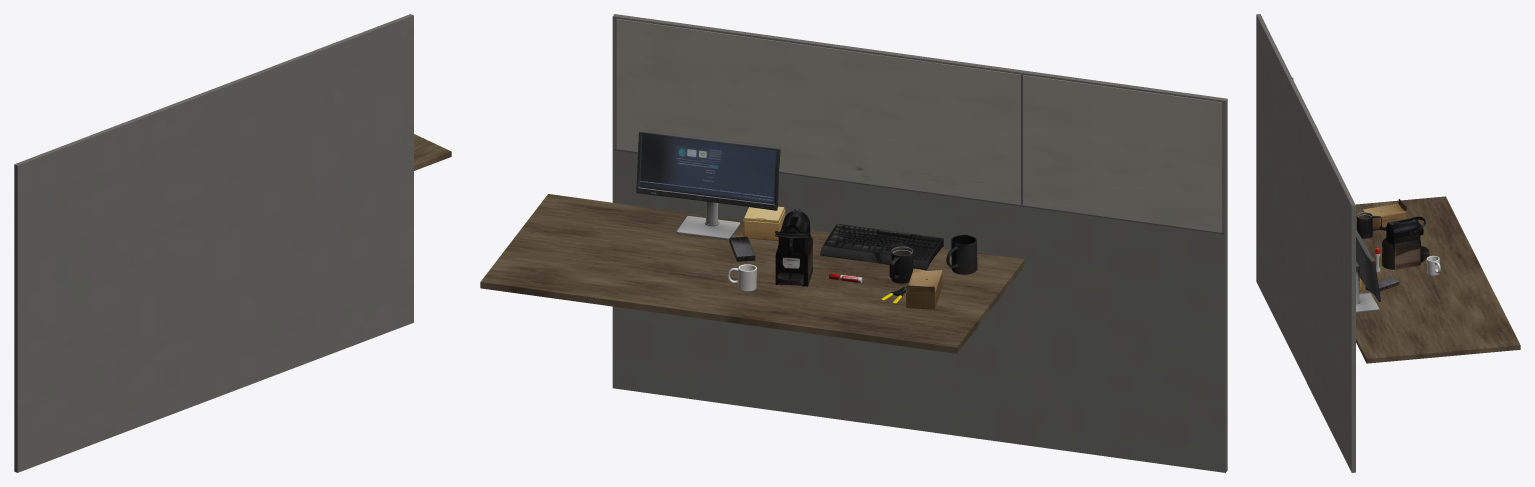
File: ours.glb
3 views of the same model, side by side, from view 1: azimuth 30°, elevation 25°; view 2: azimuth 150°, elevation 25°; view 3: azimuth 270°, elevation 25° (orthographic). The views are drawn at different scales.
Visible parts, largest first — view 1: wall_0, desk_0; view 2: wall_0, wall_0_whiteboard, desk_0, obj_monitor_0, obj_keyboard_0, obj_coffee_machine_0, obj_box_1, obj_box_0, obj_cup_1, wall_0_bottom_rail, obj_cup_0; view 3: wall_0, desk_0, obj_coffee_machine_0, obj_monitor_0, obj_box_1, obj_cup_0.
Boxes of the visible parts, x1,y1,x2,y2 form: wall_0: (14, 14, 413, 472); desk_0: (414, 134, 451, 170); wall_0: (612, 14, 1227, 472); wall_0_whiteboard: (616, 19, 1221, 232); desk_0: (480, 194, 1024, 353); obj_monitor_0: (636, 130, 780, 240); obj_keyboard_0: (820, 223, 943, 269); obj_coffee_machine_0: (775, 208, 812, 286); obj_box_1: (905, 269, 942, 309); obj_box_0: (743, 206, 785, 240); obj_cup_1: (946, 234, 977, 274); wall_0_bottom_rail: (614, 148, 1224, 234); obj_cup_0: (889, 246, 913, 283); wall_0: (1256, 14, 1355, 472); desk_0: (1356, 196, 1520, 363); obj_coffee_machine_0: (1382, 216, 1429, 269); obj_monitor_0: (1356, 229, 1380, 313); obj_box_1: (1362, 198, 1407, 228); obj_cup_0: (1356, 212, 1381, 238).
Bounding box in the file's own units: 2.38 × 1.4 × 1.26.
Materials: 17 (15 with a texture image).
